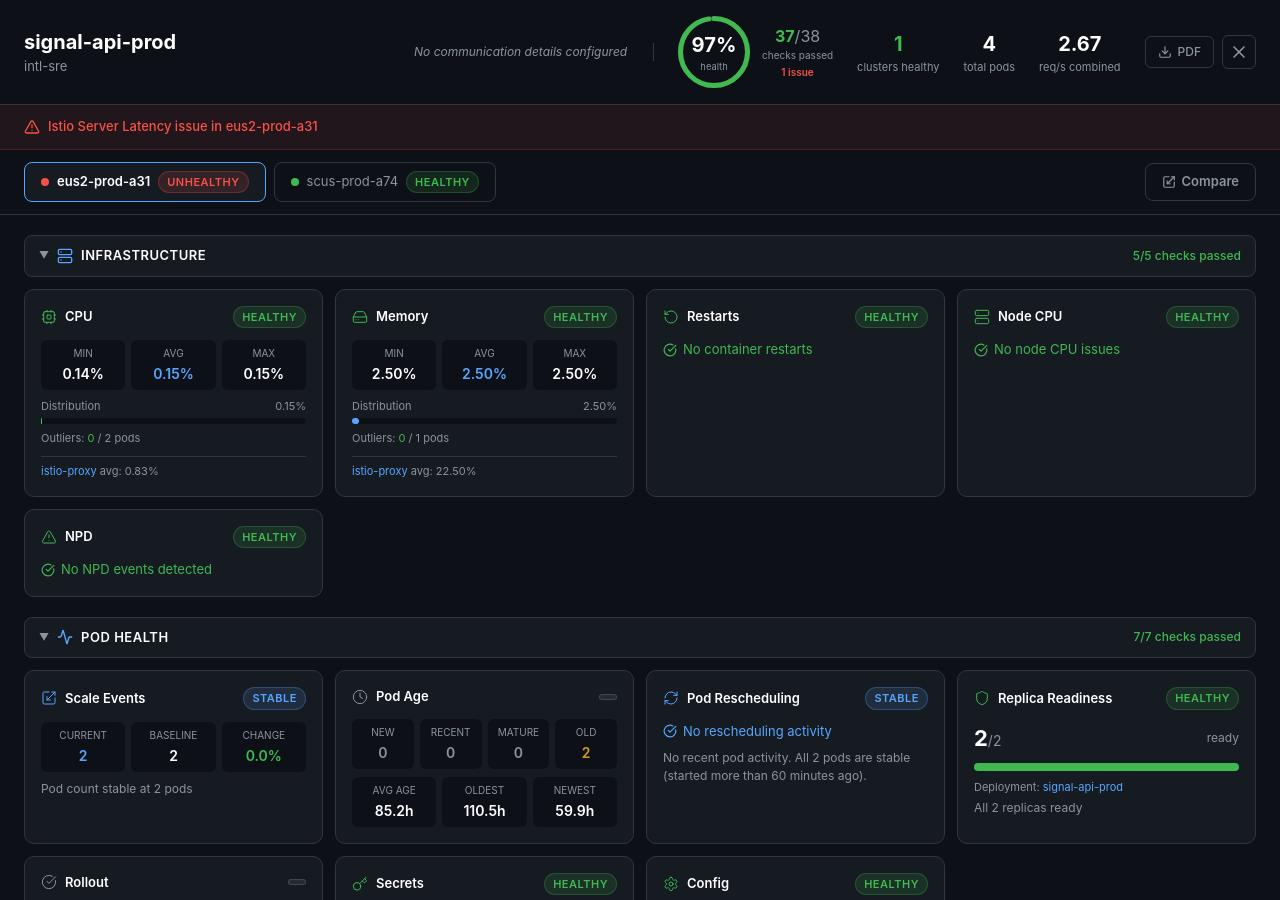
Test: HealthReportModal › compare view › renders Request Rate row in compare table
Step 1. Click the button "Compare" → [1200, 182], box [1144,163,1256,200]
(page scrolled)
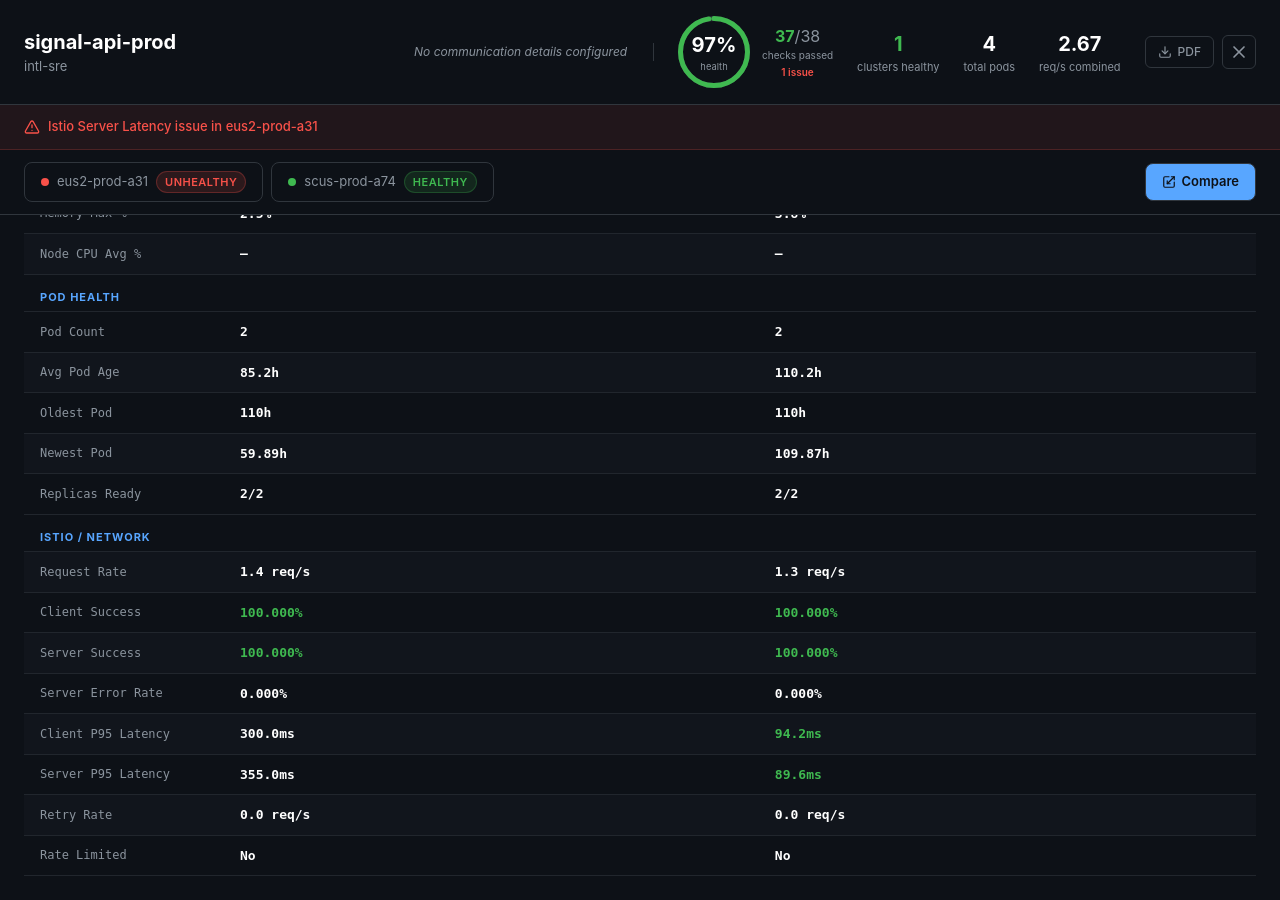
Expected: the text "Request Rate" is shown, [24,552,224,592]
